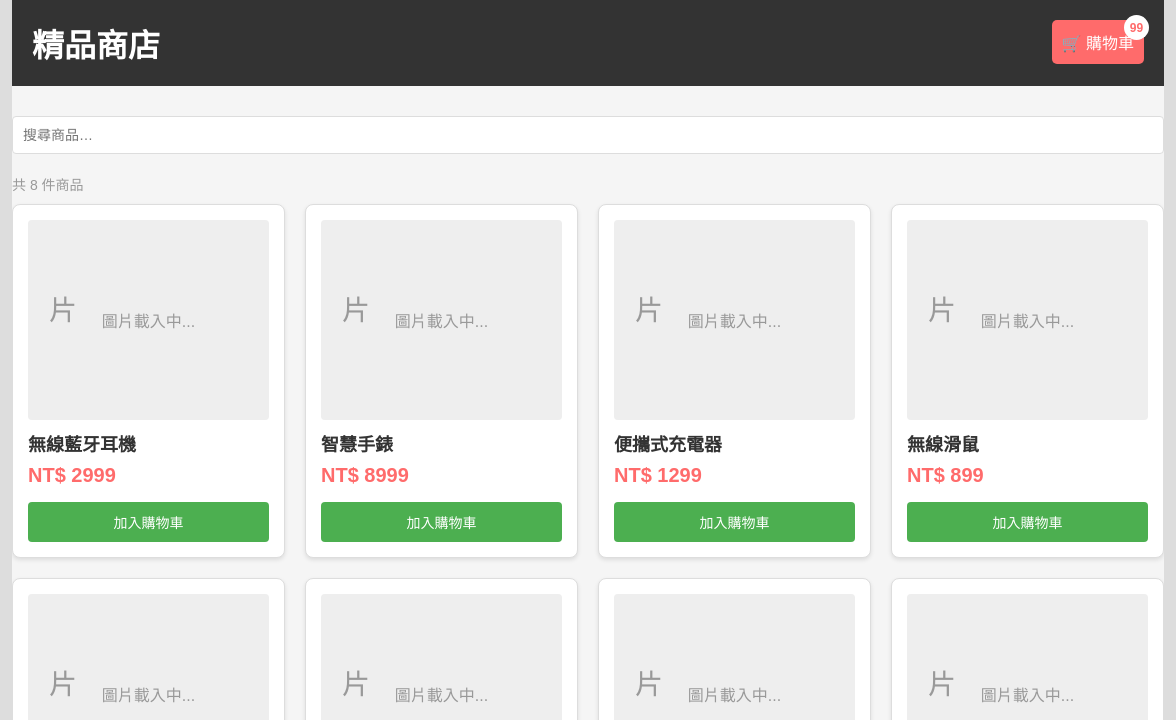
Test case: Ticket 04: show total cart quantity › shows 99+ in the badge above 99 while the label keeps the full count
Expected: the button with aria-label "開啟購物車，共 99 件商品" is shown, [1052,20,1144,64]
Click the button "加入購物車" below "無線滑鼠" at (1028, 522), box [907,502,1148,542]
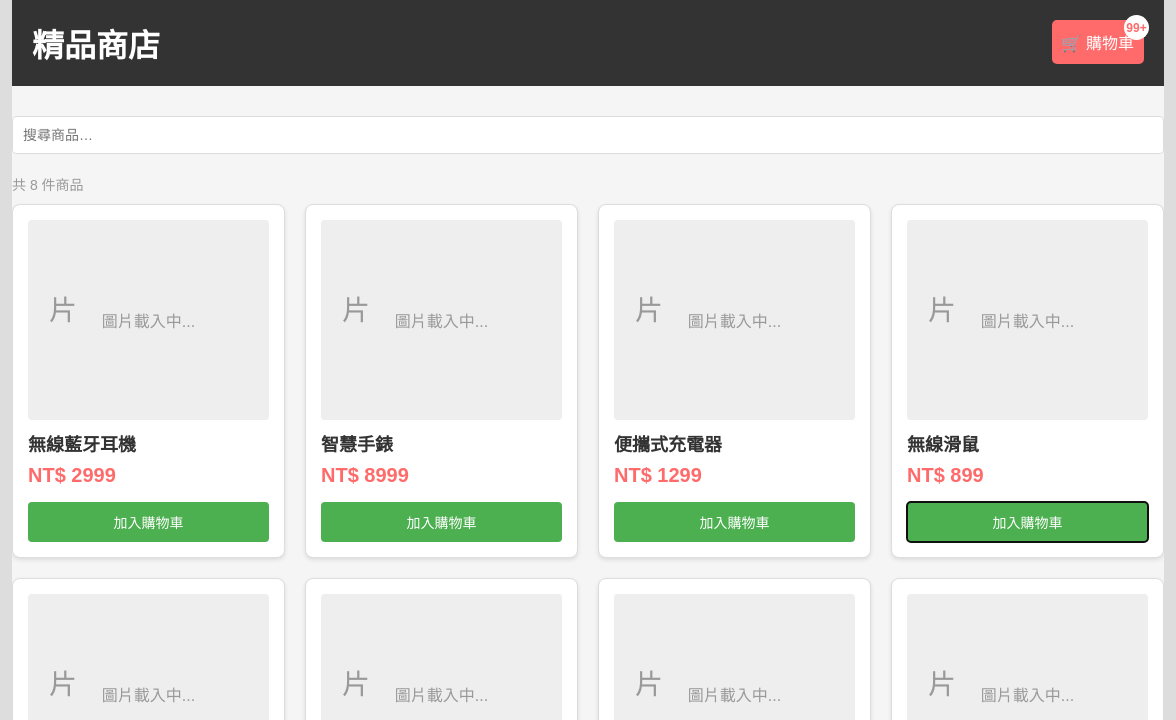
Expected: the button with aria-label "開啟購物車" shows "99+", [1052,20,1144,64]
